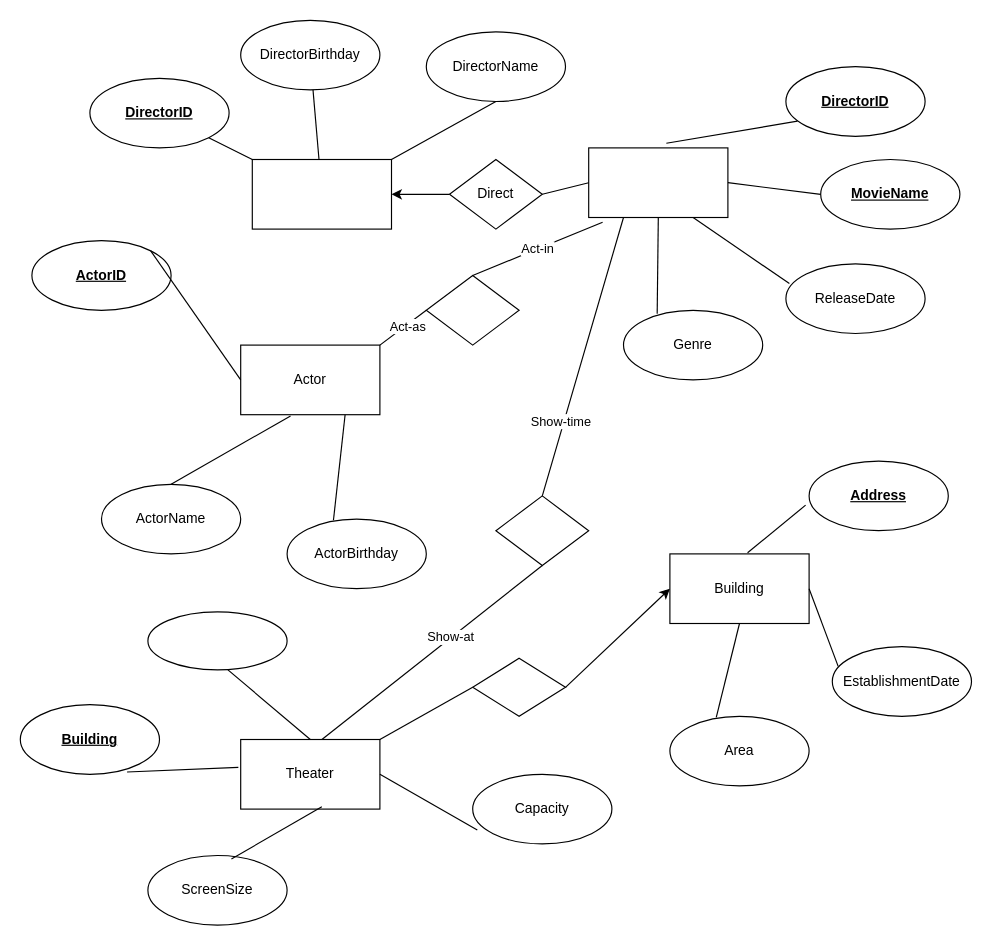
Some shapes in this 992 by 945 pixel diagram are drawn without their labels. The shapes that lost their labels are listed below. From the top down, each one's centre as x and y in pixels, then its label:
At point 321,193: "Director".
At point 658,182: "Movie".
At point 472,309: "Role name".
At point 542,530: "Show".
At point 217,640: "ThreaterNumber".
At point 519,686: "Locate".
